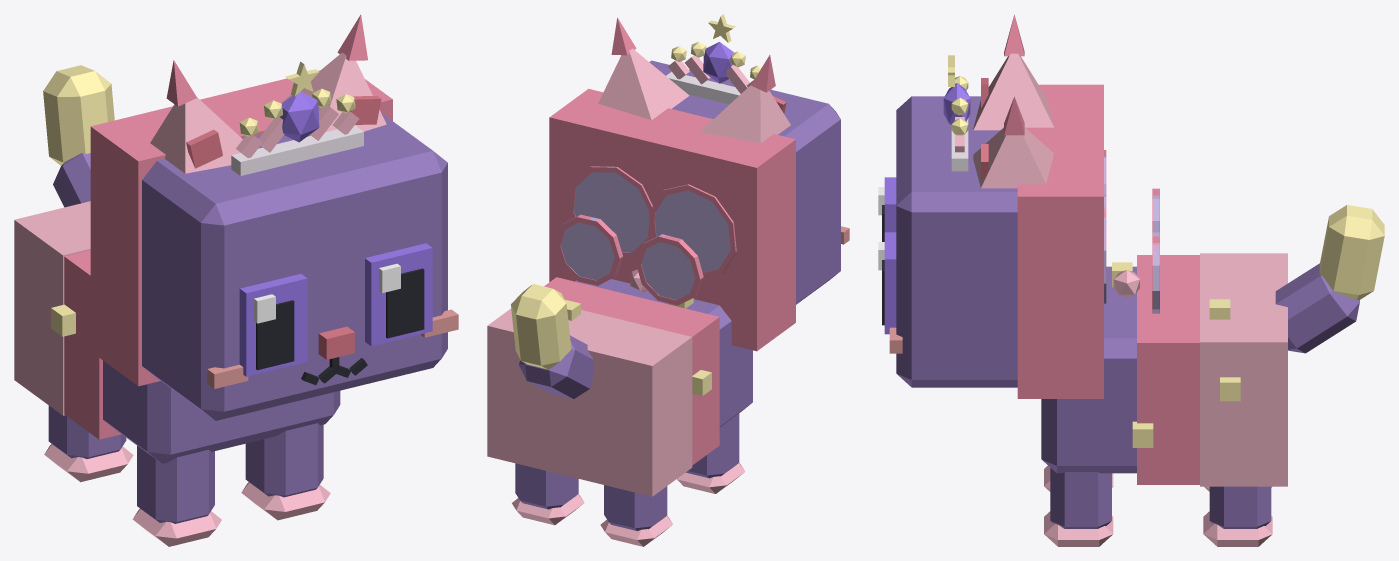
The model's file is CatCafe_Cat_SugarPlum.fbx.
The picture shows the model from 3 angles, left to right: view 1: azimuth 30°, elevation 25°; view 2: azimuth 150°, elevation 25°; view 3: azimuth 270°, elevation 25°; orthographic projection. The views are drawn at different scales.
Visible parts, largest first — view 1: CatCafe_Cat_SugarPlum_Head, CatCafe_Cat_SugarPlum_Body, CatCafe_Cat_SugarPlum_LegF2, CatCafe_Cat_SugarPlum_Tail, CatCafe_Cat_SugarPlum_LegF1, CatCafe_Cat_SugarPlum_Eye2, CatCafe_Cat_SugarPlum_Eye1, CatCafe_Cat_SugarPlum_Prop, CatCafe_Cat_SugarPlum_EarR, CatCafe_Cat_SugarPlum_LegB2, CatCafe_Cat_SugarPlum_EarL, CatCafe_Cat_SugarPlum_Gem_Glow; view 2: CatCafe_Cat_SugarPlum_Head, CatCafe_Cat_SugarPlum_Body, CatCafe_Cat_SugarPlum_Prop2, CatCafe_Cat_SugarPlum_Tail, CatCafe_Cat_SugarPlum_Wings_Glow, CatCafe_Cat_SugarPlum_EarL, CatCafe_Cat_SugarPlum_EarR, CatCafe_Cat_SugarPlum_LegB2, CatCafe_Cat_SugarPlum_LegB1, CatCafe_Cat_SugarPlum_Prop, CatCafe_Cat_SugarPlum_LegF2, CatCafe_Cat_SugarPlum_Gem_Glow; view 3: CatCafe_Cat_SugarPlum_Head, CatCafe_Cat_SugarPlum_Body, CatCafe_Cat_SugarPlum_Tail, CatCafe_Cat_SugarPlum_LegF1, CatCafe_Cat_SugarPlum_EarL, CatCafe_Cat_SugarPlum_EarR, CatCafe_Cat_SugarPlum_LegB1, CatCafe_Cat_SugarPlum_Prop2, CatCafe_Cat_SugarPlum_Eye1, CatCafe_Cat_SugarPlum_Prop, CatCafe_Cat_SugarPlum_Eye2, CatCafe_Cat_SugarPlum_Gem_Glow (+1 smaller).
Boxes of the visible parts, x1=… form: CatCafe_Cat_SugarPlum_Head: x1=90, y1=70, x2=458, y2=420; CatCafe_Cat_SugarPlum_Body: x1=14, y1=201, x2=340, y2=463; CatCafe_Cat_SugarPlum_LegF2: x1=132, y1=445, x2=221, y2=546; CatCafe_Cat_SugarPlum_Tail: x1=43, y1=65, x2=114, y2=207; CatCafe_Cat_SugarPlum_LegF1: x1=241, y1=423, x2=330, y2=520; CatCafe_Cat_SugarPlum_Eye2: x1=239, y1=274, x2=307, y2=376; CatCafe_Cat_SugarPlum_Eye1: x1=365, y1=243, x2=432, y2=346; CatCafe_Cat_SugarPlum_Prop: x1=231, y1=88, x2=363, y2=175; CatCafe_Cat_SugarPlum_EarR: x1=150, y1=60, x2=242, y2=173; CatCafe_Cat_SugarPlum_LegB2: x1=44, y1=405, x2=133, y2=482; CatCafe_Cat_SugarPlum_EarL: x1=281, y1=14, x2=386, y2=136; CatCafe_Cat_SugarPlum_Gem_Glow: x1=280, y1=61, x2=319, y2=142; CatCafe_Cat_SugarPlum_Head: x1=549, y1=60, x2=849, y2=351; CatCafe_Cat_SugarPlum_Body: x1=487, y1=277, x2=752, y2=496; CatCafe_Cat_SugarPlum_Prop2: x1=560, y1=166, x2=730, y2=299; CatCafe_Cat_SugarPlum_Tail: x1=511, y1=284, x2=593, y2=398; CatCafe_Cat_SugarPlum_Wings_Glow: x1=555, y1=166, x2=736, y2=305; CatCafe_Cat_SugarPlum_EarL: x1=598, y1=17, x2=689, y2=120; CatCafe_Cat_SugarPlum_EarR: x1=700, y1=55, x2=790, y2=143; CatCafe_Cat_SugarPlum_LegB2: x1=600, y1=485, x2=672, y2=546; CatCafe_Cat_SugarPlum_LegB1: x1=512, y1=463, x2=584, y2=525; CatCafe_Cat_SugarPlum_Prop: x1=666, y1=42, x2=761, y2=104; CatCafe_Cat_SugarPlum_LegF2: x1=677, y1=413, x2=745, y2=493; CatCafe_Cat_SugarPlum_Gem_Glow: x1=703, y1=14, x2=735, y2=83; CatCafe_Cat_SugarPlum_Head: x1=889, y1=84, x2=1103, y2=398; CatCafe_Cat_SugarPlum_Body: x1=1041, y1=253, x2=1287, y2=486; CatCafe_Cat_SugarPlum_Tail: x1=1275, y1=205, x2=1384, y2=353; CatCafe_Cat_SugarPlum_LegF1: x1=1044, y1=468, x2=1113, y2=546; CatCafe_Cat_SugarPlum_EarL: x1=973, y1=96, x2=1053, y2=188; CatCafe_Cat_SugarPlum_EarR: x1=973, y1=14, x2=1053, y2=130; CatCafe_Cat_SugarPlum_LegB1: x1=1203, y1=486, x2=1272, y2=546; CatCafe_Cat_SugarPlum_Prop2: x1=1104, y1=156, x2=1159, y2=313; CatCafe_Cat_SugarPlum_Eye1: x1=878, y1=232, x2=896, y2=334; CatCafe_Cat_SugarPlum_Prop: x1=951, y1=76, x2=968, y2=171; CatCafe_Cat_SugarPlum_Eye2: x1=878, y1=177, x2=896, y2=241; CatCafe_Cat_SugarPlum_Gem_Glow: x1=943, y1=55, x2=970, y2=124.
Size of the model in its own units: 1.03 by 1.97 by 1.97.
1 material, 1 textured.
